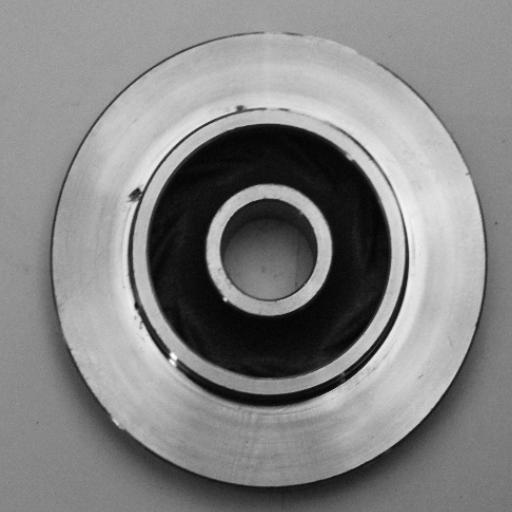crack: (128, 294, 158, 335), (123, 177, 154, 213), (224, 100, 265, 124)
scratch: (158, 339, 192, 386)
unpolished_casting: (47, 31, 488, 490)
